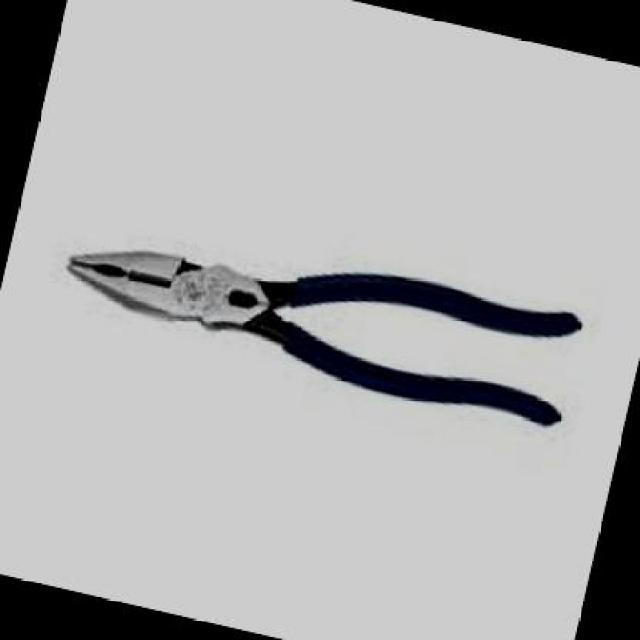pliers: (20, 173, 602, 484)
